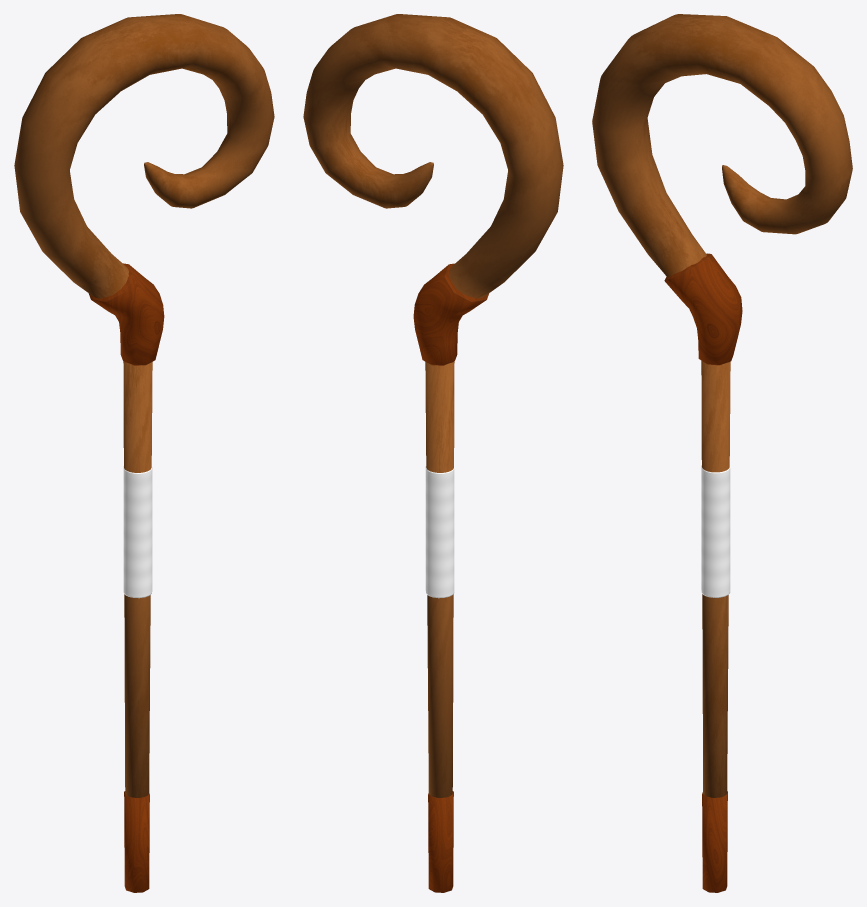
The model's file is Staff.fbx.
3 views of the same model, side by side, from view 1: azimuth 30°, elevation 25°; view 2: azimuth 150°, elevation 25°; view 3: azimuth 330°, elevation 25° (orthographic).
Parts seen in each view (by area): view 1: Stick, Frame_Top, Grip, Frame_Btm; view 2: Stick, Frame_Top, Grip, Frame_Btm; view 3: Stick, Frame_Top, Grip, Frame_Btm.
Part boxes in pixels (x1,y1,x2,y2): Stick: (14, 14, 274, 797); Frame_Top: (88, 263, 164, 365); Grip: (123, 466, 152, 598); Frame_Btm: (124, 791, 149, 892); Stick: (303, 14, 563, 797); Frame_Top: (413, 263, 488, 365); Grip: (425, 466, 454, 598); Frame_Btm: (428, 791, 453, 892); Stick: (592, 14, 852, 797); Frame_Top: (664, 253, 742, 365); Grip: (701, 465, 730, 597); Frame_Btm: (702, 791, 727, 892).
Size of the model in its own units: 195 by 644 by 52.01.
1 material, 1 textured.
